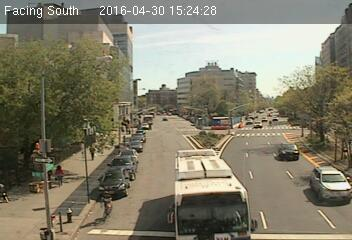neg: (221, 199, 236, 219), (272, 19, 287, 39), (157, 139, 170, 155), (224, 162, 235, 176), (173, 110, 182, 123), (265, 117, 272, 127), (199, 95, 206, 105)
pos: (49, 160, 68, 185), (84, 143, 101, 165), (39, 166, 52, 183)
